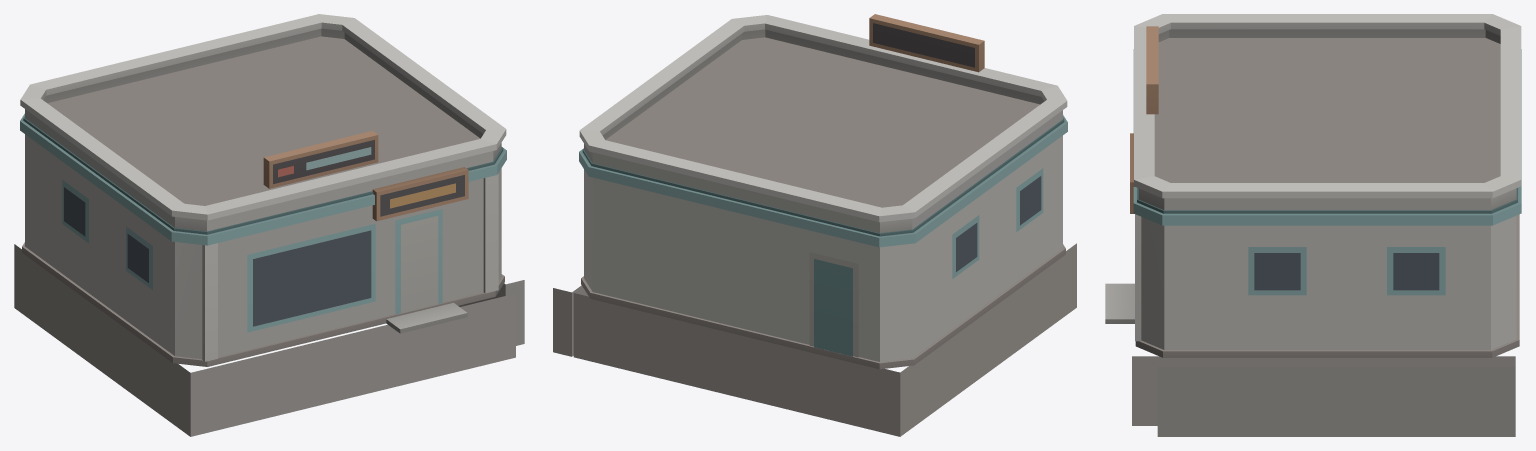
Rendered from motel.lod2.glb.
The picture shows the model from 3 angles, left to right: view 1: azimuth 30°, elevation 25°; view 2: azimuth 150°, elevation 25°; view 3: azimuth 270°, elevation 25°; orthographic projection. The views are drawn at different scales.
Size of the model in its own units: 8.58 by 5.84 by 8.1.
